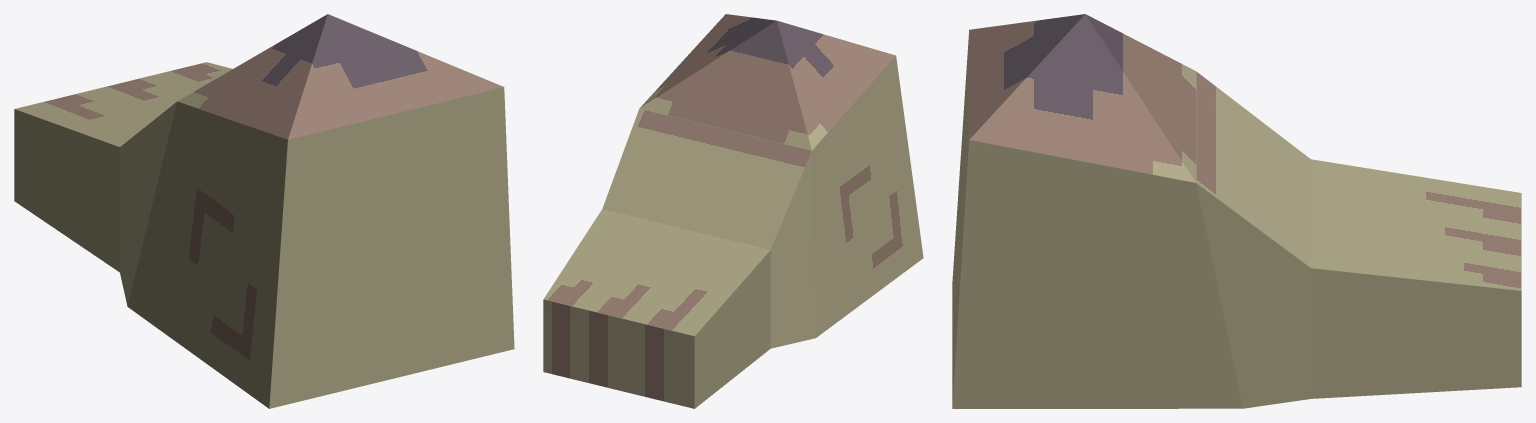
Rendered from character_foot.glb.
3 renders of one model, left to right at view 1: azimuth 30°, elevation 25°; view 2: azimuth 150°, elevation 25°; view 3: azimuth 270°, elevation 25°, orthographic. The views are drawn at different scales.
Parts seen in each view (by area): view 1: Cube.054; view 2: Cube.054; view 3: Cube.054.
Boxes of the visible parts, box(x1,y1,x2,y2) form: Cube.054: box(14, 14, 514, 408); Cube.054: box(543, 14, 923, 408); Cube.054: box(952, 14, 1521, 408).
Size of the model in its own units: 0.9375 by 1.15 by 1.78.
Materials: 1 (1 with a texture image).
